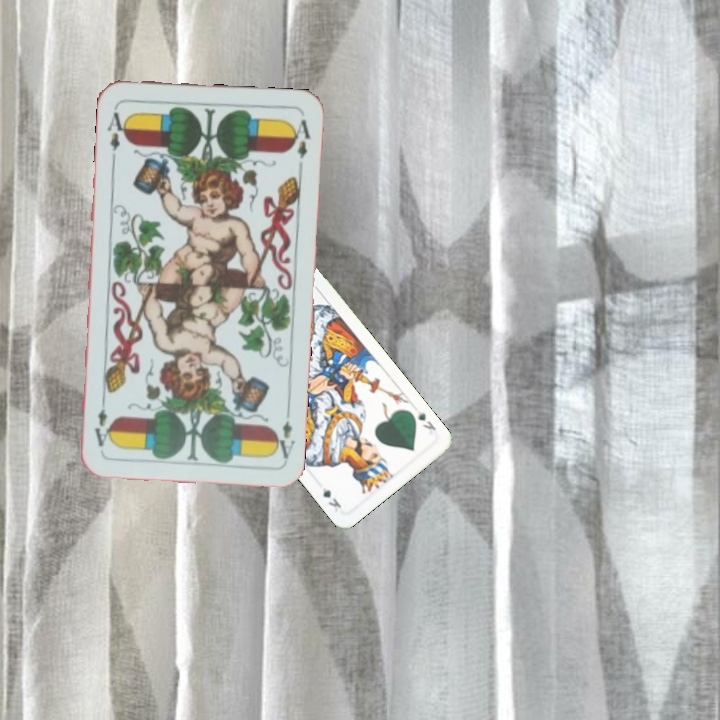EA: (270, 404, 298, 462), (103, 108, 130, 162)
GK: (413, 406, 438, 433)
